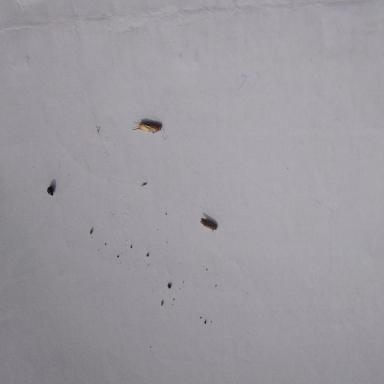pbw: (130, 110, 166, 139), (200, 218, 217, 235)
